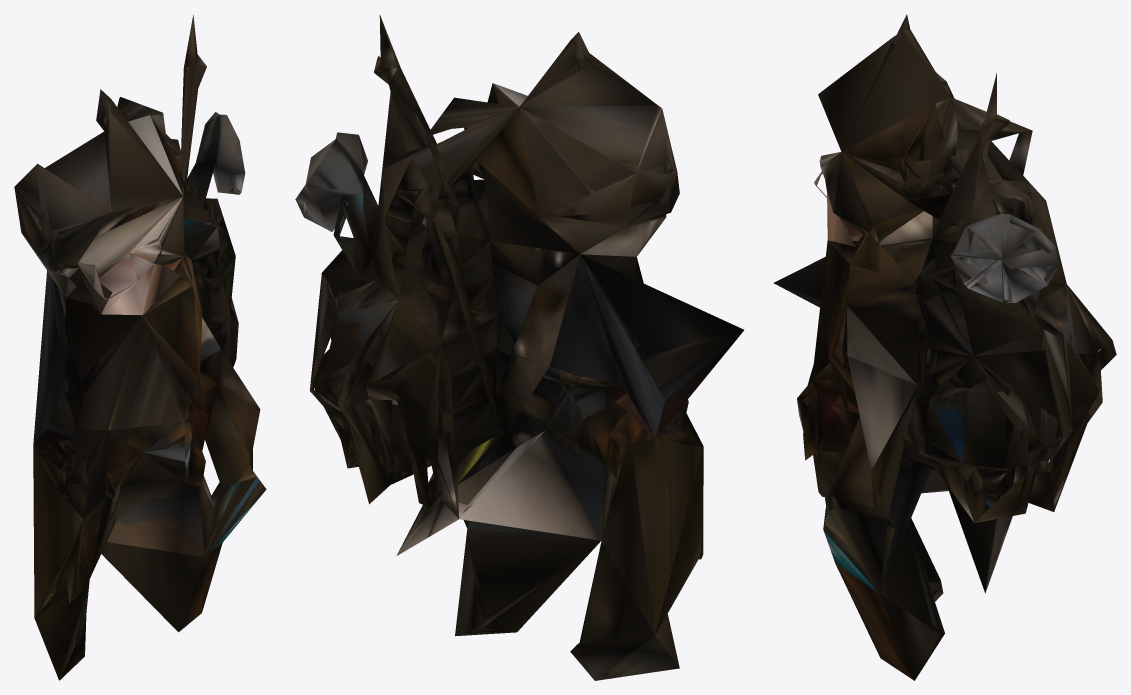
Rendered from demo_stalker_01.glb.
3 views of the same model, side by side, from view 1: azimuth 30°, elevation 25°; view 2: azimuth 150°, elevation 25°; view 3: azimuth 270°, elevation 25° (orthographic). The views are drawn at different scales.
Parts seen in each view (by area): view 1: node_0; view 2: node_0; view 3: node_0.
Part boxes in pixels (x1,y1,x2,y2): node_0: [14, 15, 266, 680]; node_0: [295, 14, 743, 680]; node_0: [773, 14, 1116, 680].
Size of the model in its own units: 0.5007 by 1.04 by 0.5101.
1 material, 1 textured.
